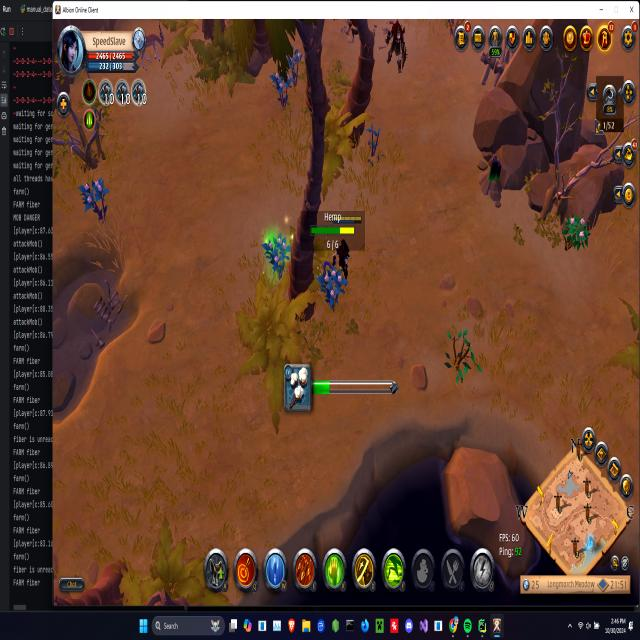hide: (262, 225, 292, 280), (79, 172, 110, 222), (318, 256, 346, 311), (562, 211, 590, 254), (269, 66, 290, 108), (284, 45, 302, 92)
ore: (384, 18, 408, 77), (138, 26, 167, 67)
player: (478, 152, 506, 207)
red: (330, 213, 360, 290)
